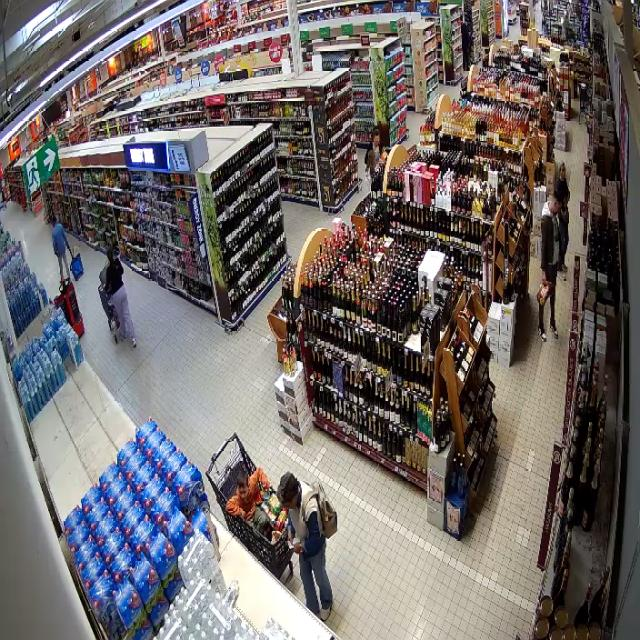article: (536, 281, 551, 306)
bags: (303, 483, 336, 537)
hands: (542, 271, 550, 286), (294, 542, 301, 553), (288, 533, 295, 544), (242, 510, 245, 518)
person: (278, 472, 332, 619), (104, 247, 135, 347), (541, 192, 561, 338), (226, 468, 270, 533), (538, 304, 545, 340)
